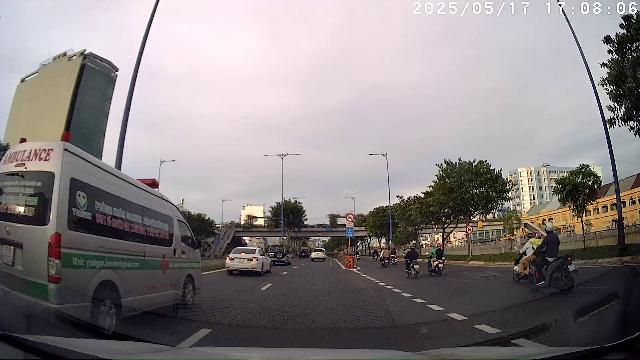103a-cam-oto: (465, 225, 474, 234)
